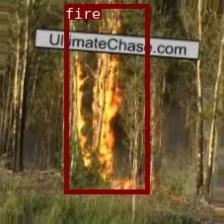fire: (64, 4, 148, 193)
